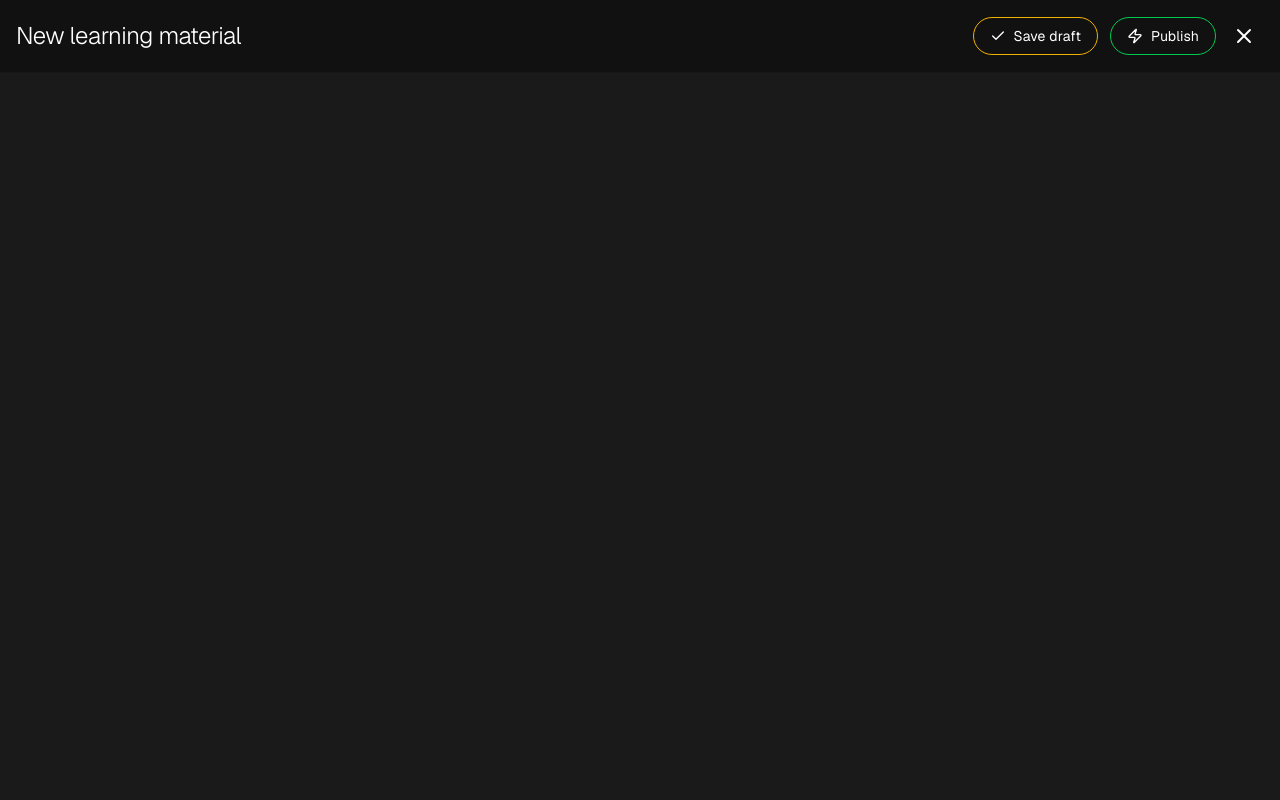
Test case: CourseItemDialog › Close button functionality › shows confirmation when closing with changes
The width and height of the screenshot is (1280, 800).
Click the button named "close dialog" at [1244, 36], box left=1224, top=16, right=1264, bottom=56
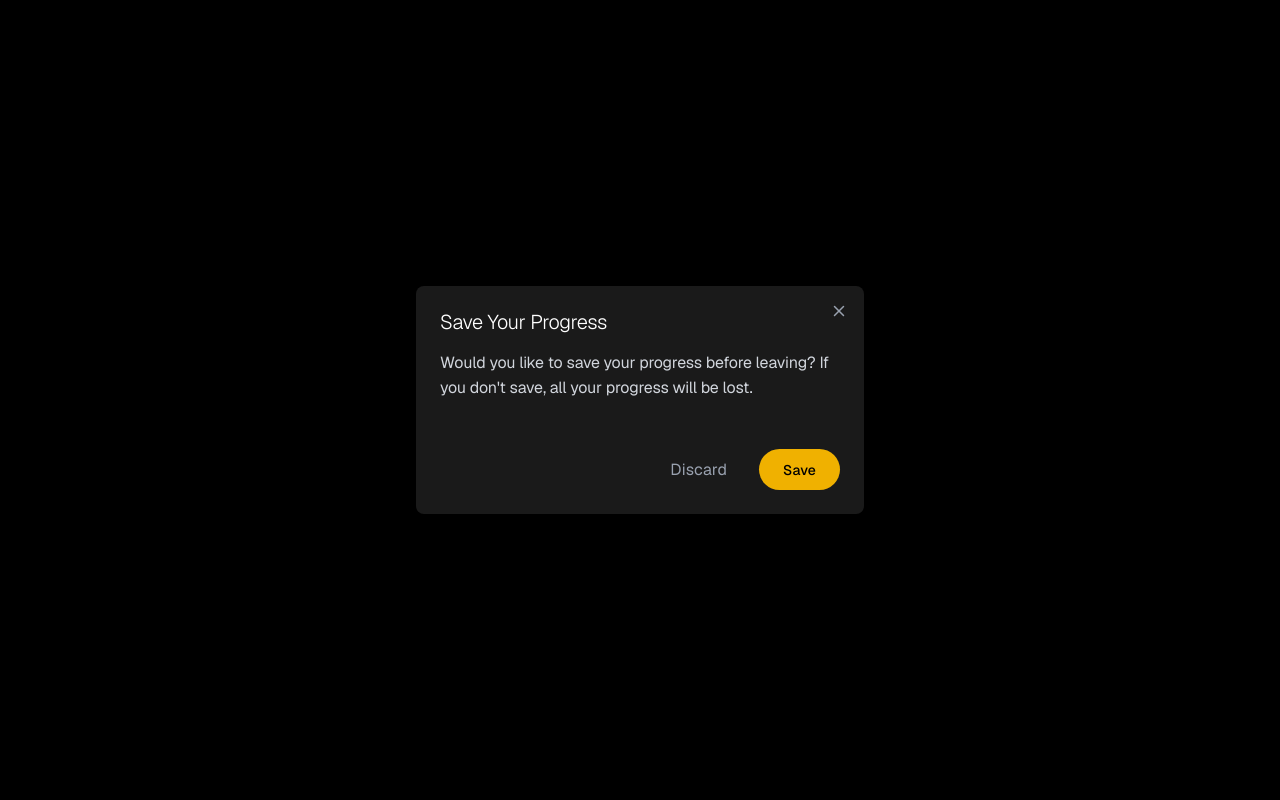
Now the button "Save" is shown, box left=759, top=449, right=840, bottom=490
